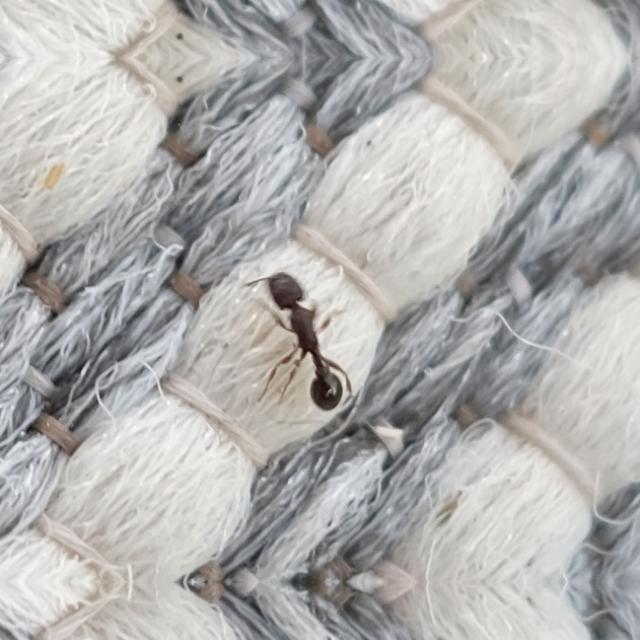Tetramorium: (241, 258, 373, 422)
